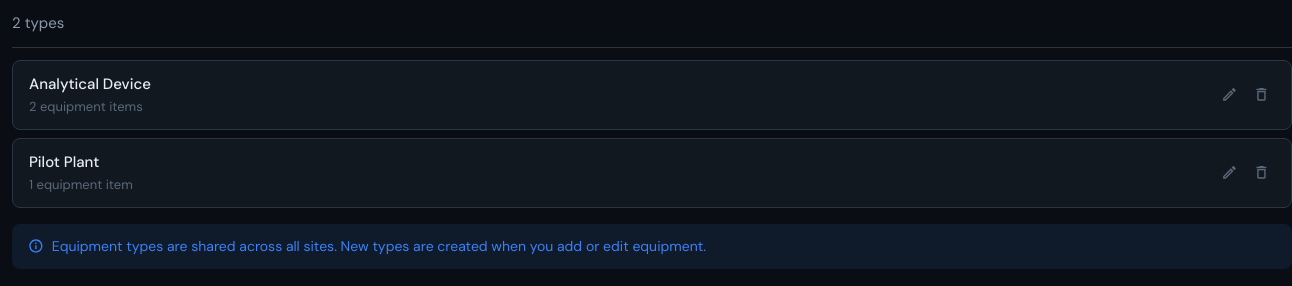
EquipmentTypesPanel › deletes a type through the API after confirmation and reloads the list
Expected: the text "Pilot Plant" is shown, [29,152,99,172]
Click the button named "Delete Pilot Plant" at (1261, 172), box [1247,158,1275,186]
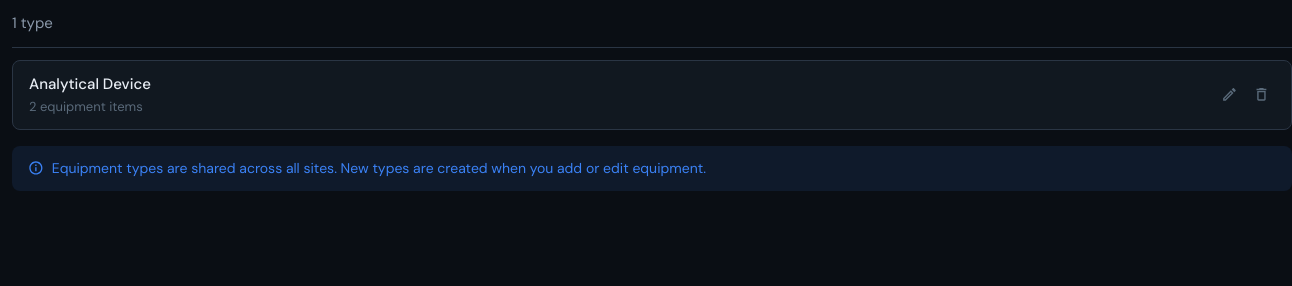
Now the text "Pilot Plant" is gone
Now the text "1 type" is shown, box [12,12,53,34]
